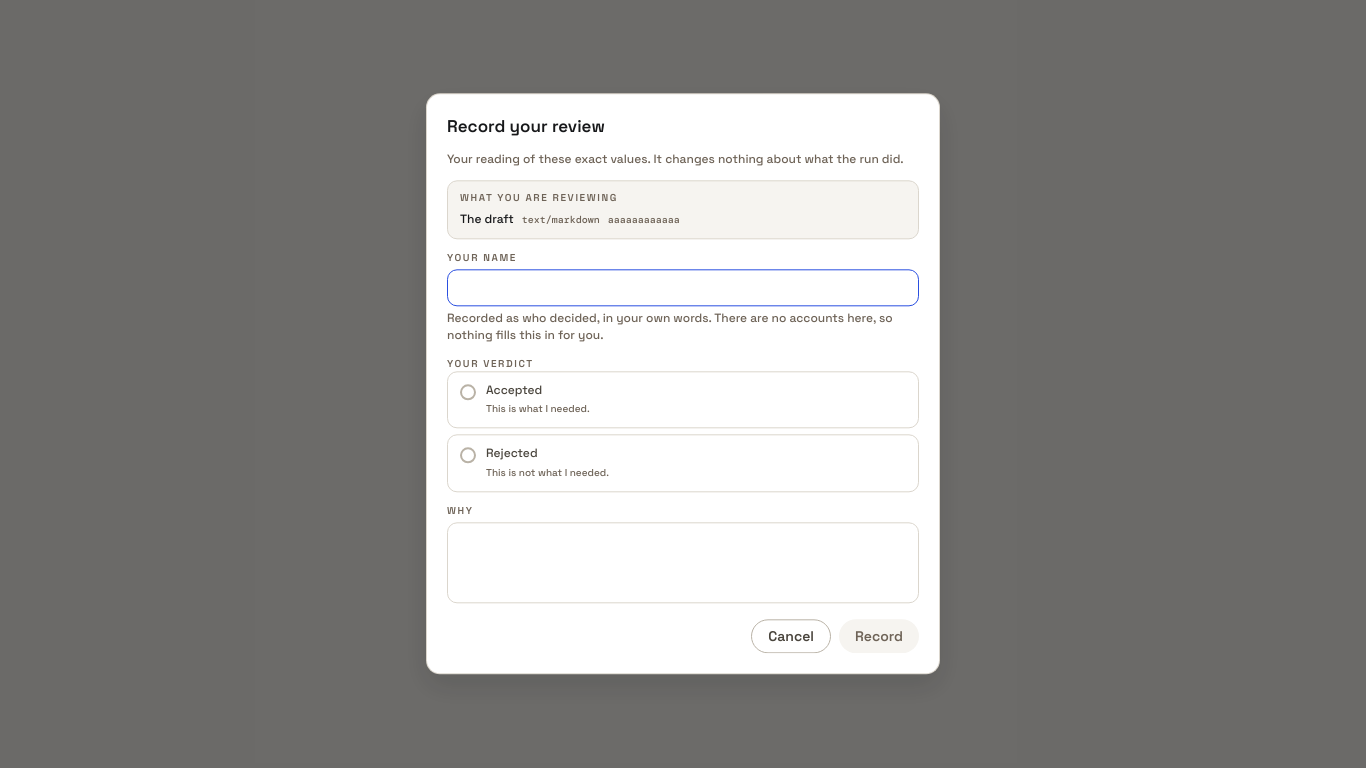
Test: OwnerReviewForm › opens with no name filled in and records nothing until a name, a verdict and a reason are there
Expected: the radio button labelled "Accepted" is not checked, [447,371,919,429]
Expected: the radio button labelled "Rejected" is not checked, [447,435,919,492]
Type "Alex" into the field labelled "Your name". click: (683, 288)
box: [447,270,919,306]
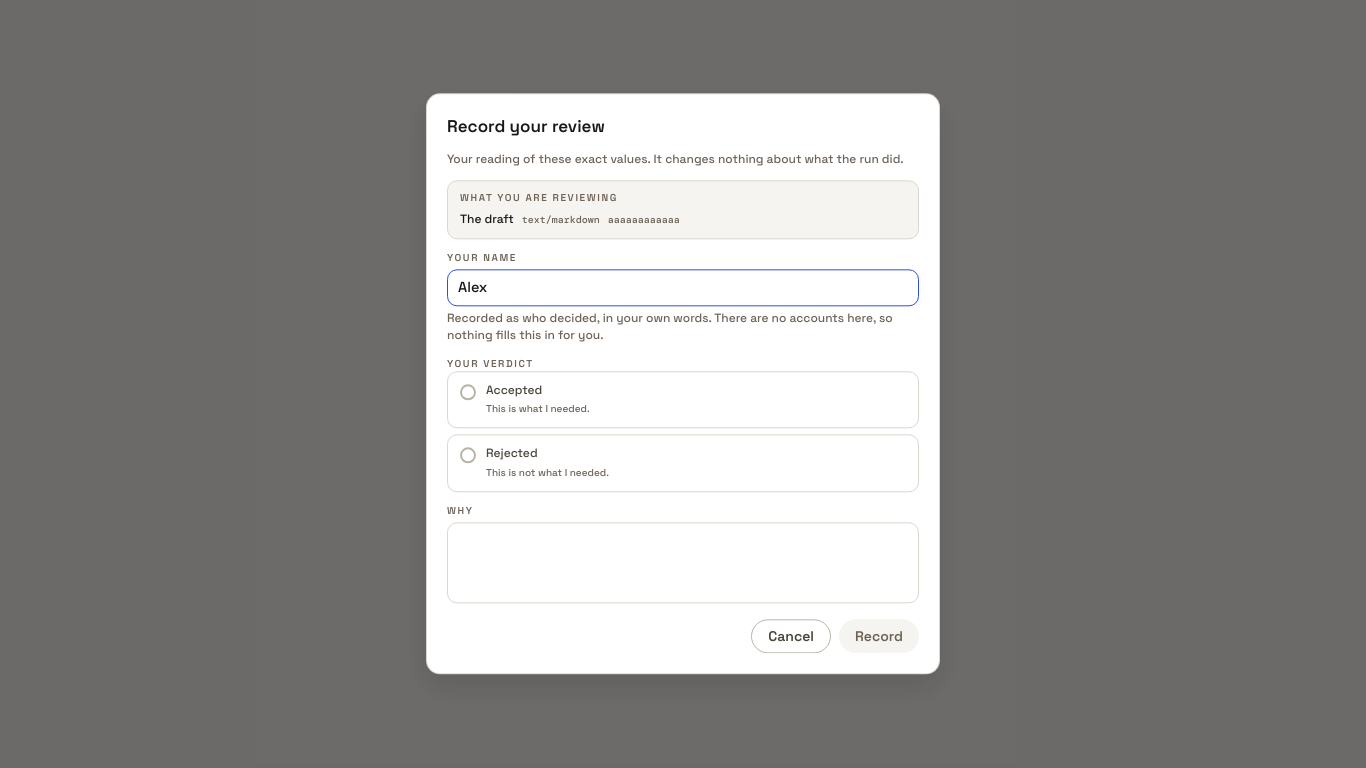
Expected: the button "Record" is disabled, [839,620,919,654]
Click the radio button labelled "Accepted". click: (514, 390)
box: [447,371,919,429]
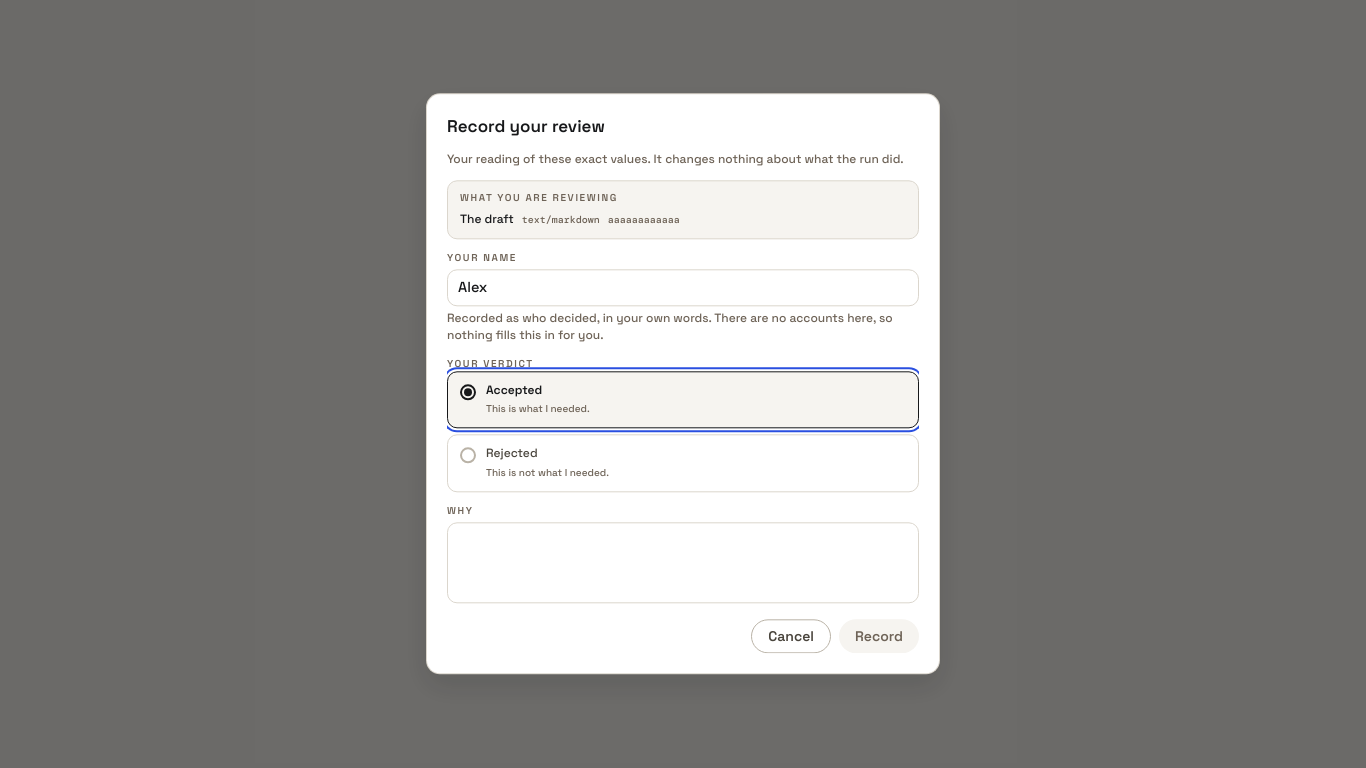
Expected: the button "Record" is disabled, [839,620,919,654]
Type "It answered the question." into the text box labelled "Why". click: (683, 563)
box: [447,522,919,604]
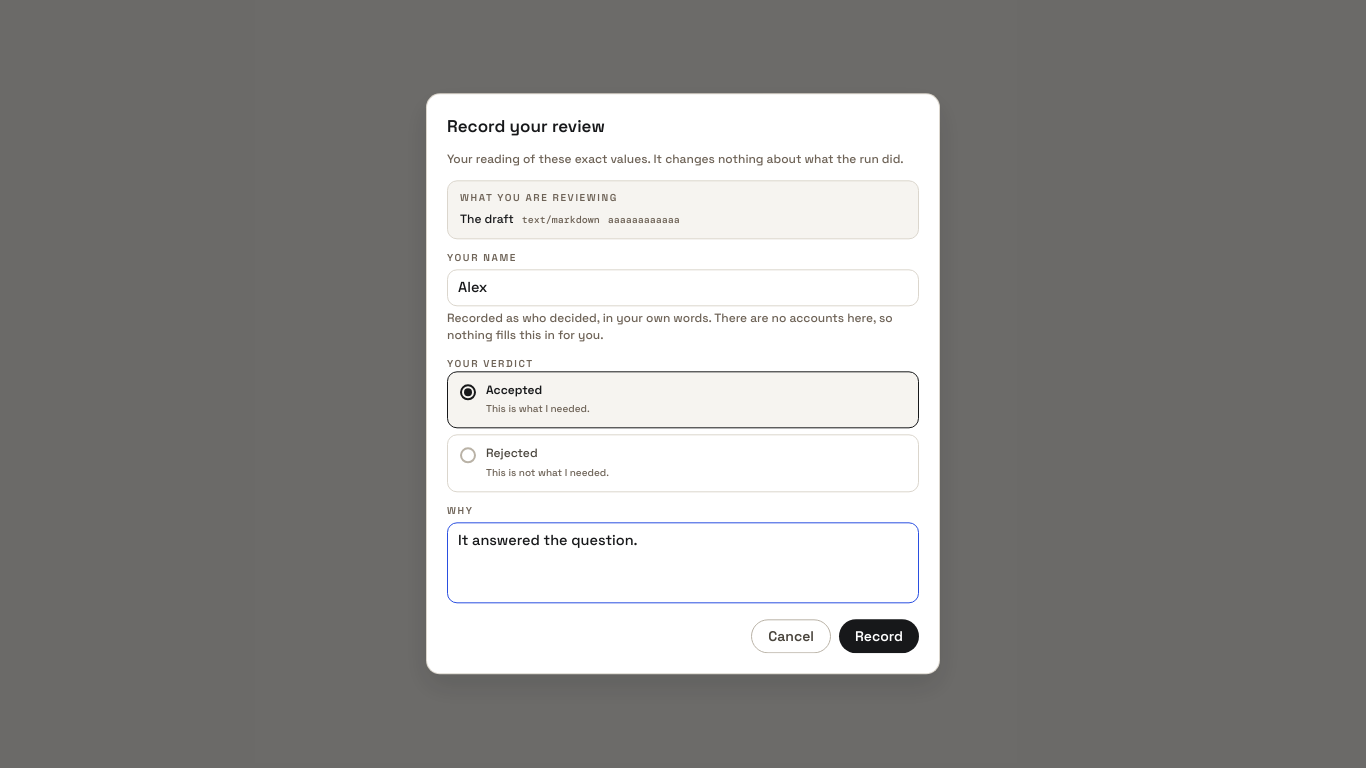
Expected: the button "Record" is enabled, [839,620,919,654]
